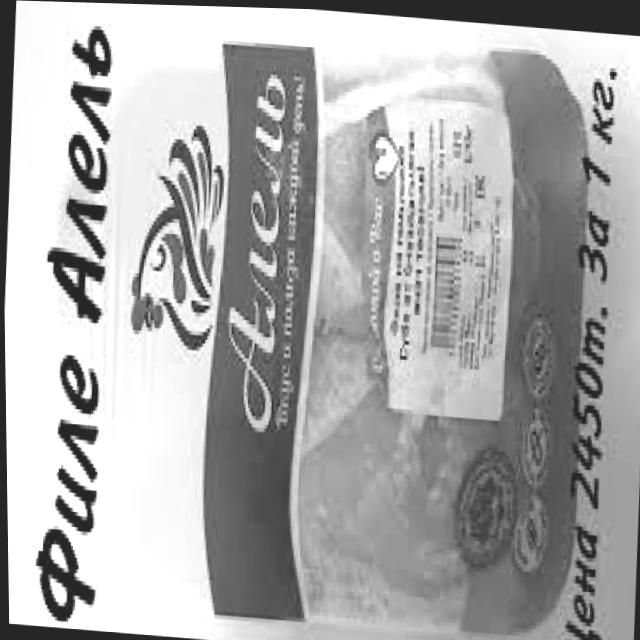alel: (96, 26, 333, 611)
